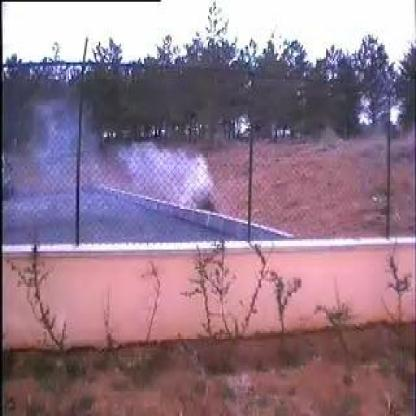-: (40, 106, 246, 236)
